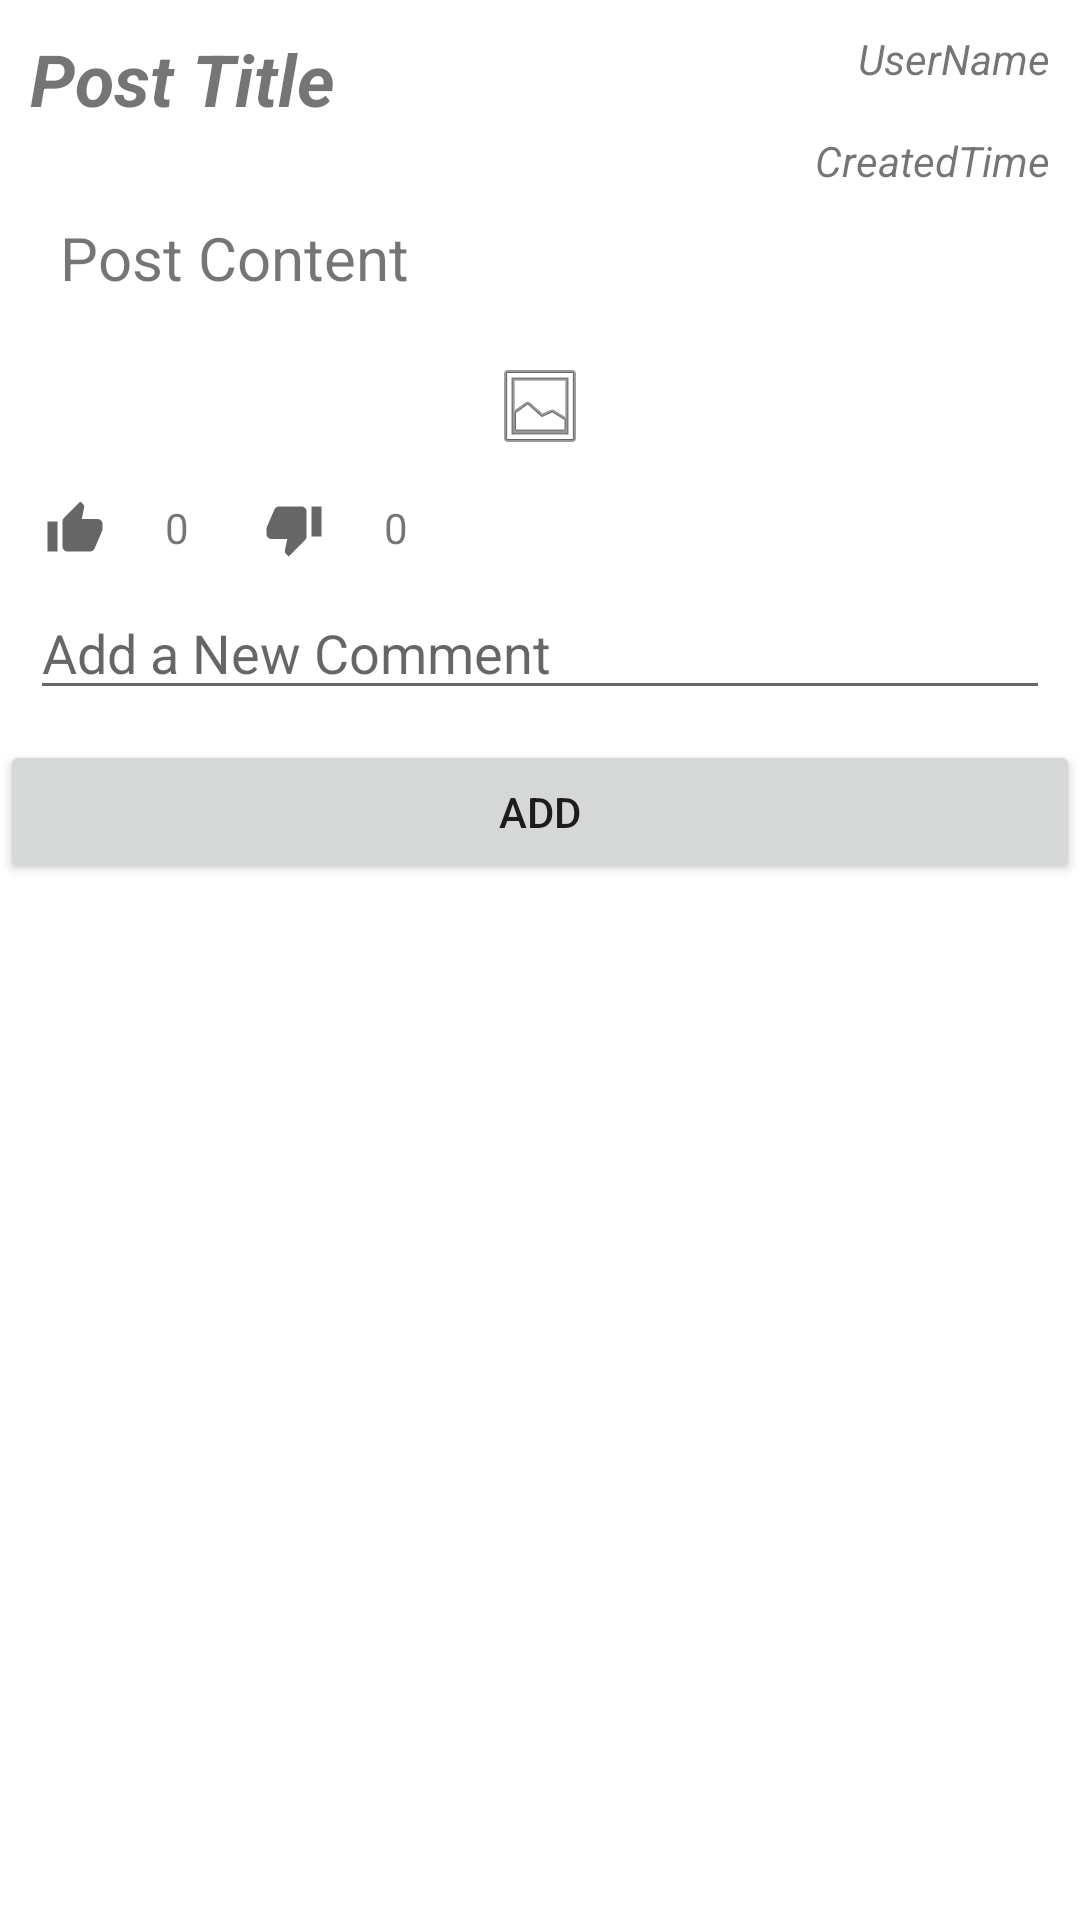

Named icons in this screenshot (1080×1920) and their bounding boxes, (left=x1, top=y1, right=x2, bottom=y2):
gallery: (left=504, top=370, right=576, bottom=442)
thumb down: (left=266, top=506, right=322, bottom=557)
thumb up: (left=47, top=501, right=103, bottom=552)
